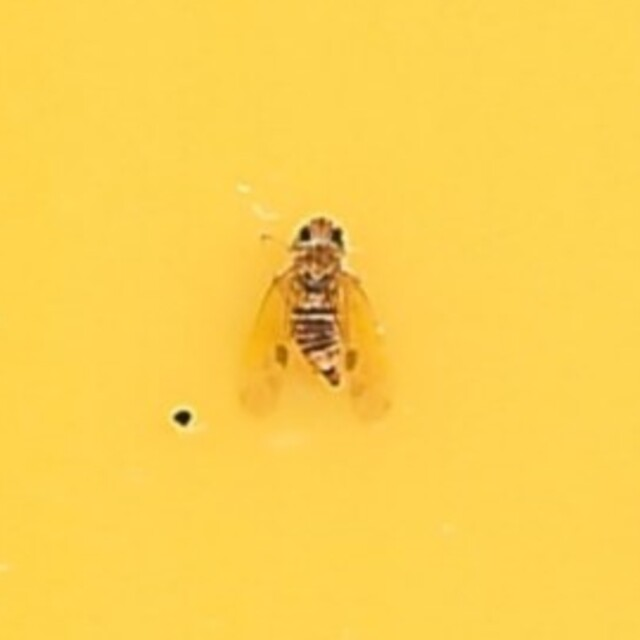Hemiptera: (237, 215, 403, 425)
